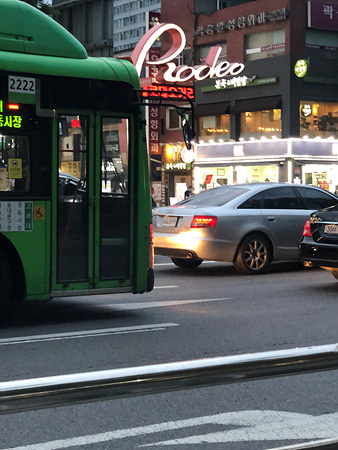entrance: (51, 102, 138, 292)
